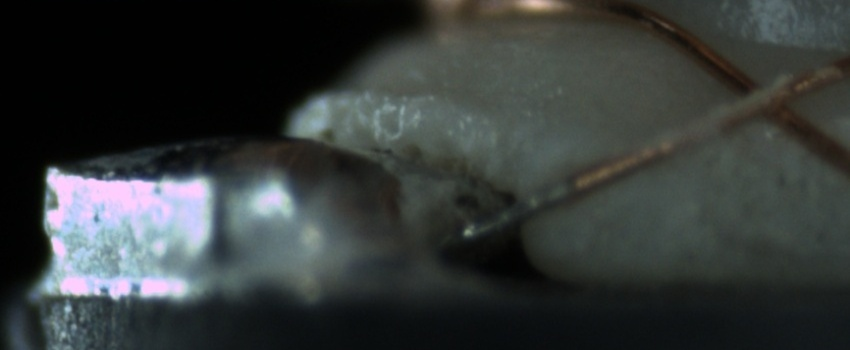CL: (719, 63, 816, 135)
TS: (451, 176, 575, 244)
